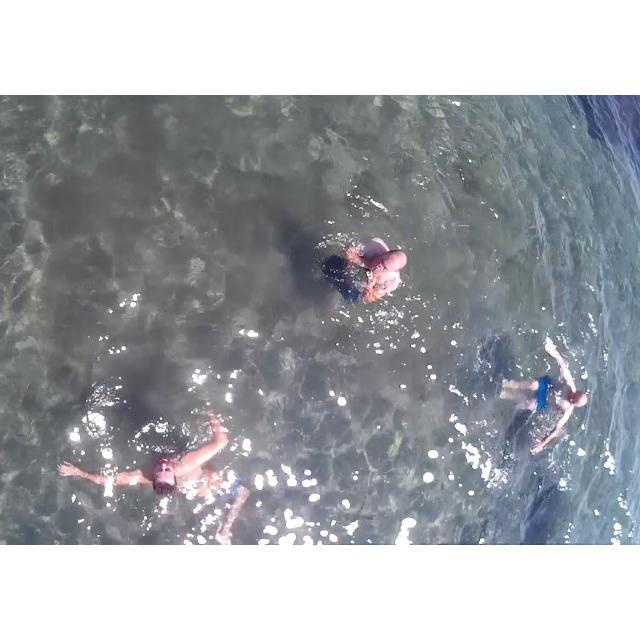human: (69, 414, 246, 512), (490, 328, 588, 457), (321, 220, 411, 307)
